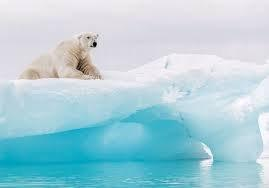bear: (18, 29, 107, 87)
